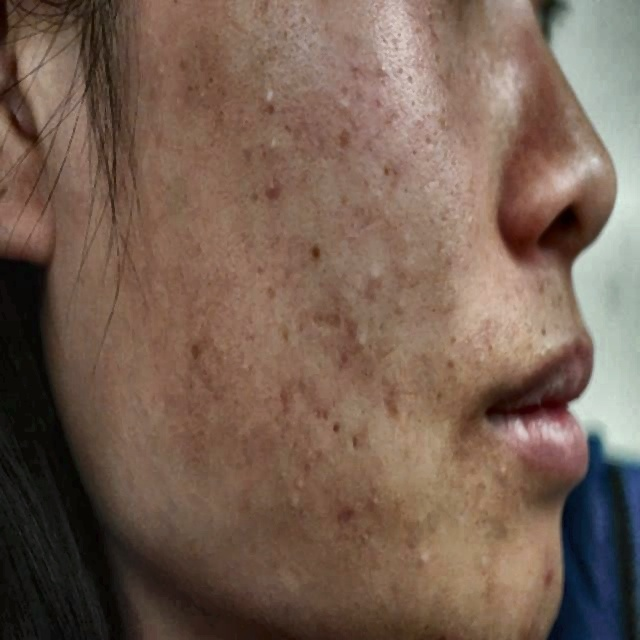comedone: (330, 496, 363, 555), (251, 151, 276, 206), (534, 560, 558, 594)
